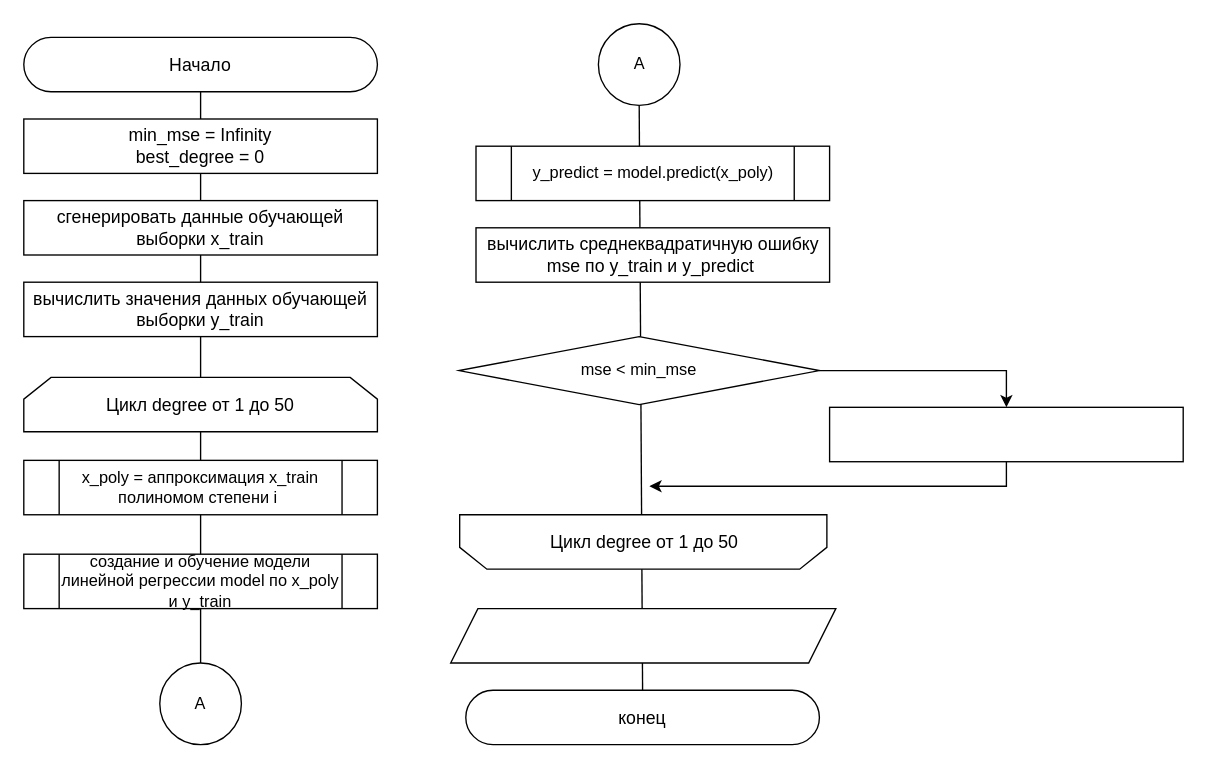
The diagram is 1208 pixels wide and 768 high, and some of its shapes have lost their labels. Here are the shapes that lost their labels. From the top down, the centre of each, then its label:
At point 1005,434: "min_mse = mse best_degree = degree".
At point 642,635: "вывести best_degree".
